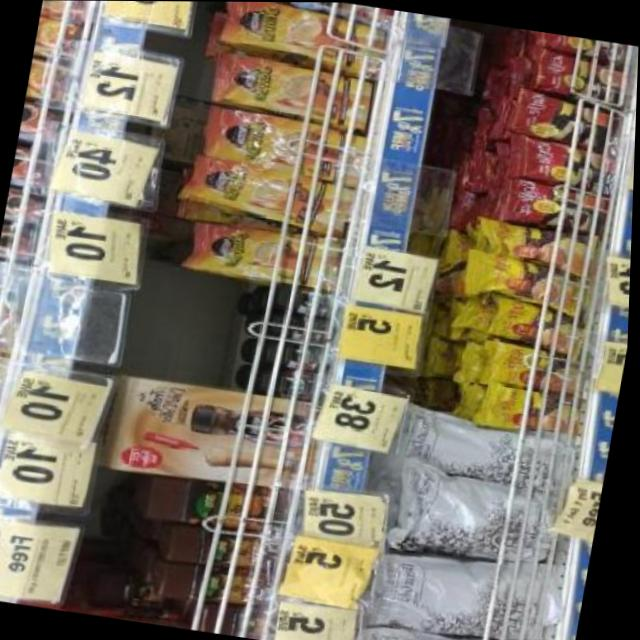Coffee: (202, 107, 369, 183), (190, 157, 354, 231), (211, 54, 378, 125), (219, 1, 388, 68), (197, 223, 348, 289), (262, 340, 330, 376), (269, 281, 335, 317), (269, 312, 335, 348), (257, 367, 325, 401)
